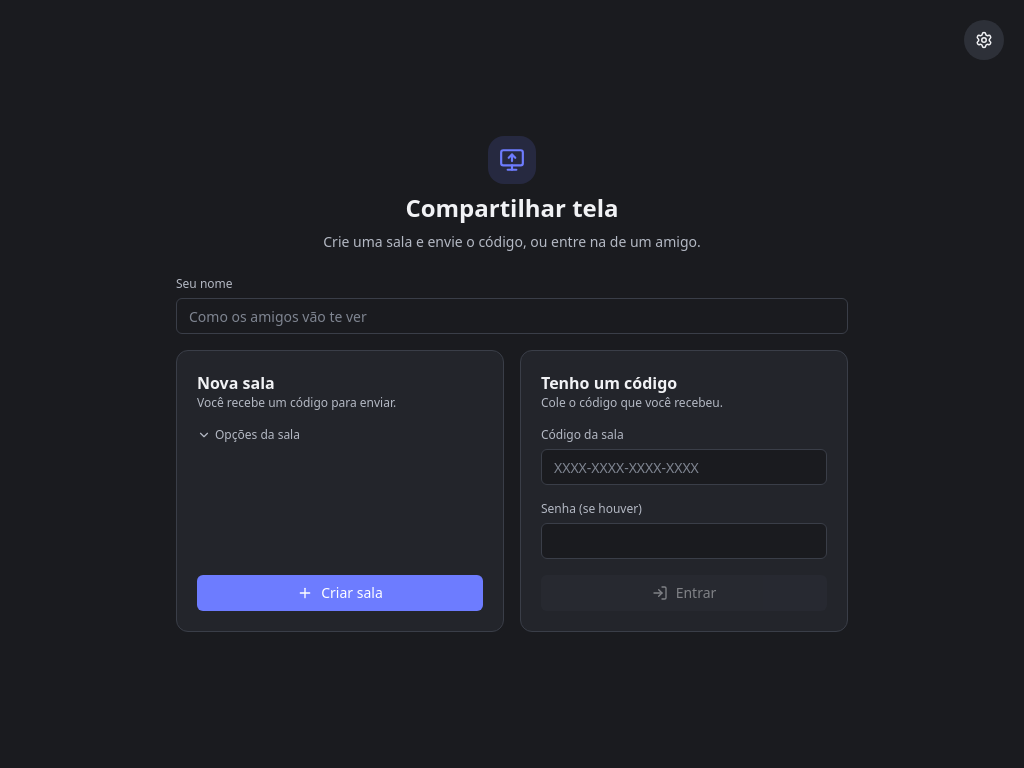
Test: entrar em sala › mostra mensagem para room_not_found e permite tentar de novo
Type "Bia" into the field labelled "Seu nome".
click(512, 316); type("Bia")  # box [176,298,848,334]
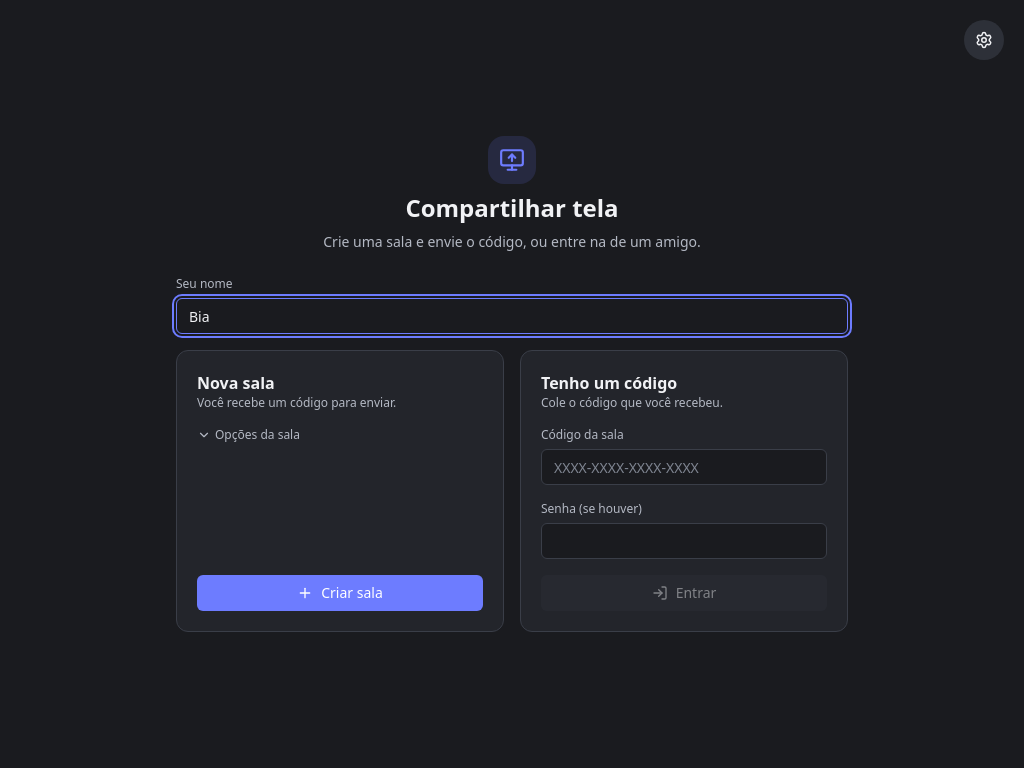
Type "abcd" into the field labelled "Código da sala".
click(684, 467); type("abcd")  # box [541,449,827,485]
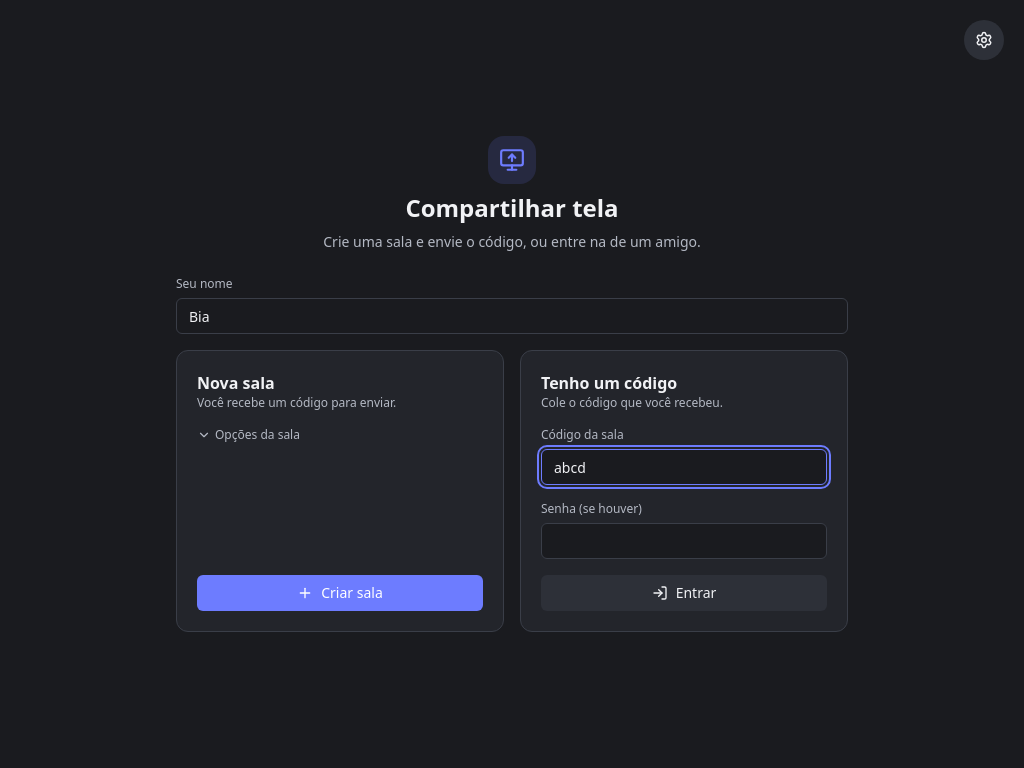
Click the button "Entrar".
click(684, 593)  # box [541,575,827,611]
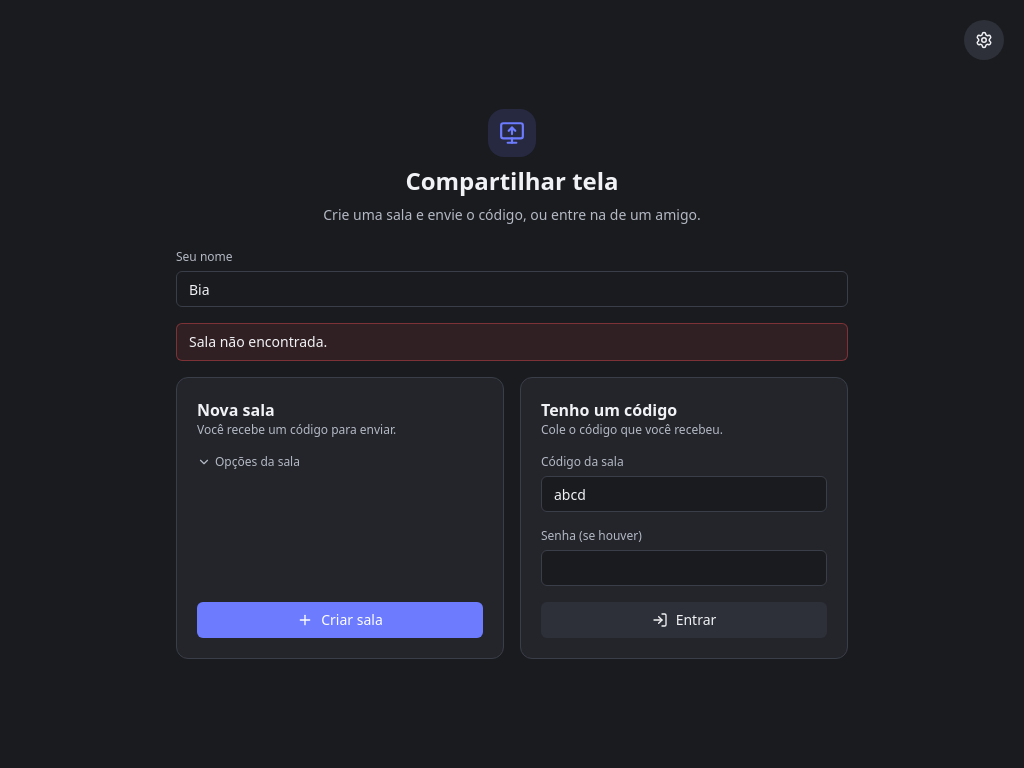
expect the message reads "Sala não encontrada.": met, box [189,332,327,351]
Click the button "Entrar".
click(684, 620)  # box [541,602,827,638]
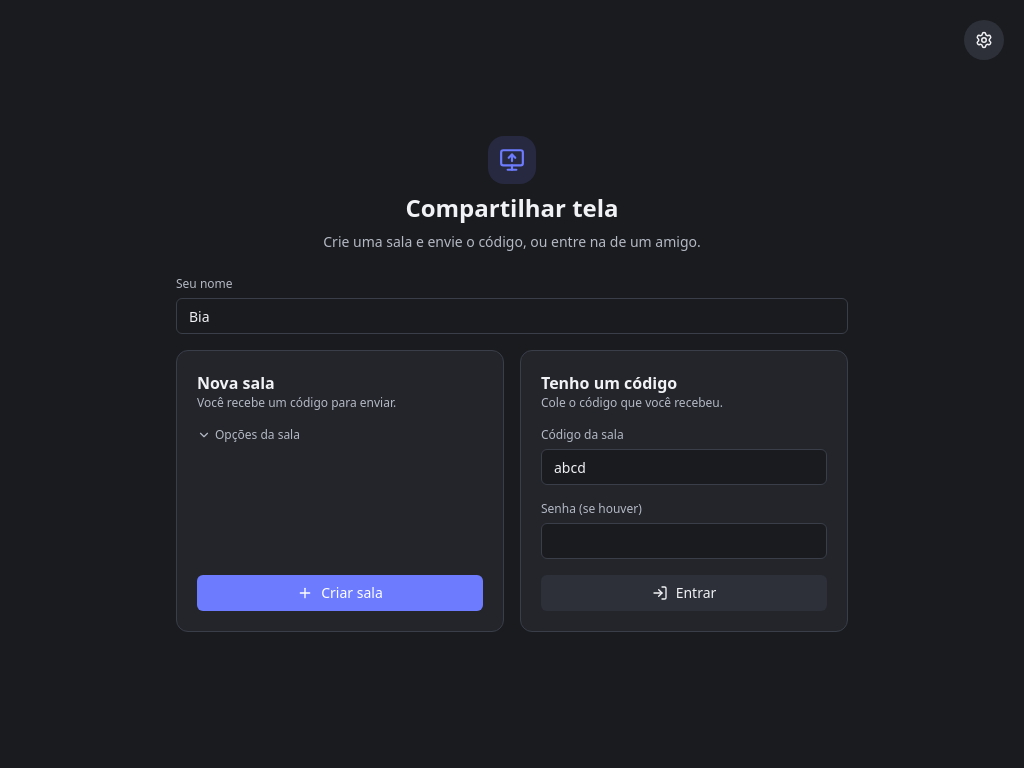
expect the message "Sala não encontrada." is gone: met
